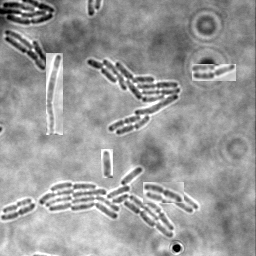Dividing: (46, 53, 63, 135), (143, 182, 184, 203), (192, 64, 236, 81), (1, 204, 37, 222), (3, 199, 33, 215), (101, 149, 113, 178)
Microcolony: (40, 167, 199, 238), (87, 59, 181, 136), (5, 30, 52, 72), (1, 1, 56, 26)
